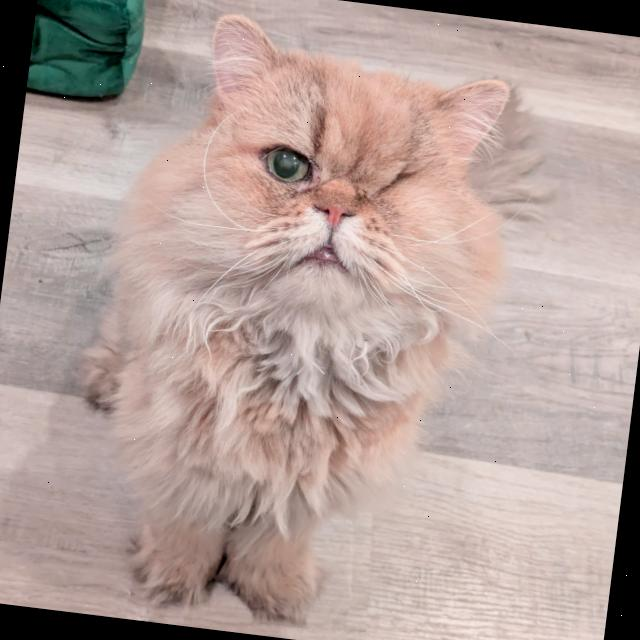persian_cat: (126, 0, 545, 396)
